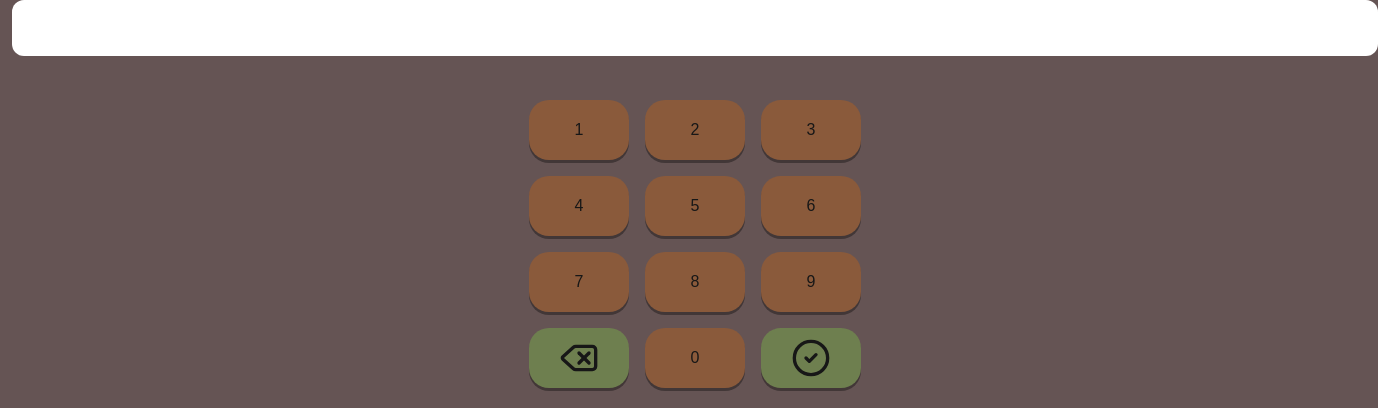
Test: Form › 입력된 번호가 4자리 초과면 에러 메세지를 표시한다.
The width and height of the screenshot is (1378, 408).
Click the button "1": (579, 130) [529,100,629,160]
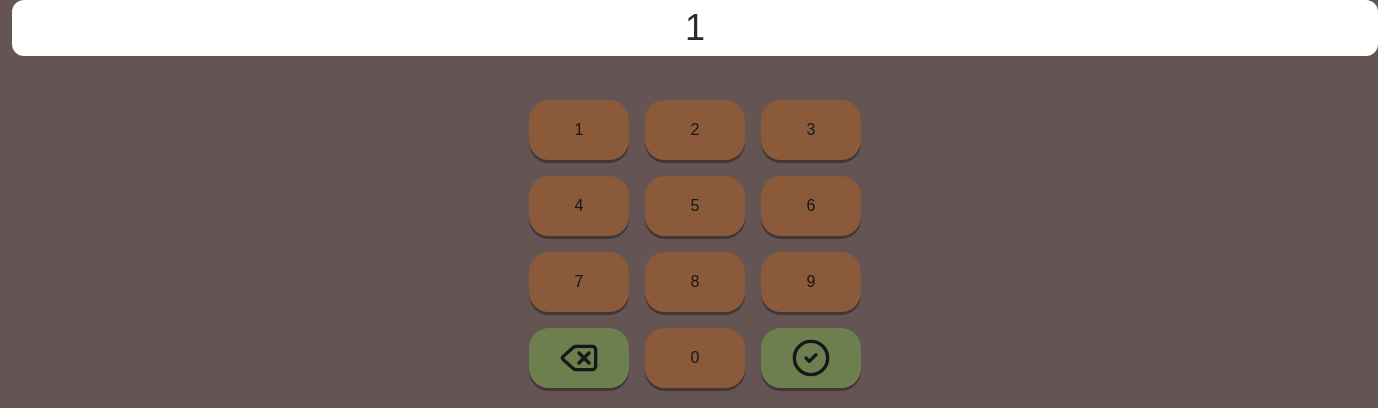
Click the button "2": (695, 130) [645,100,745,160]
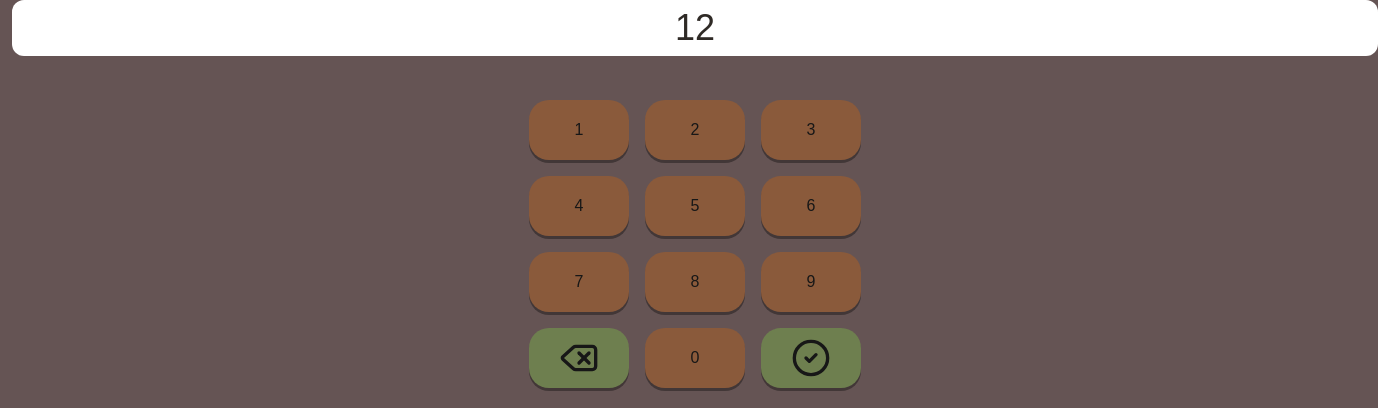
Click the button "3": (811, 130) [761,100,861,160]
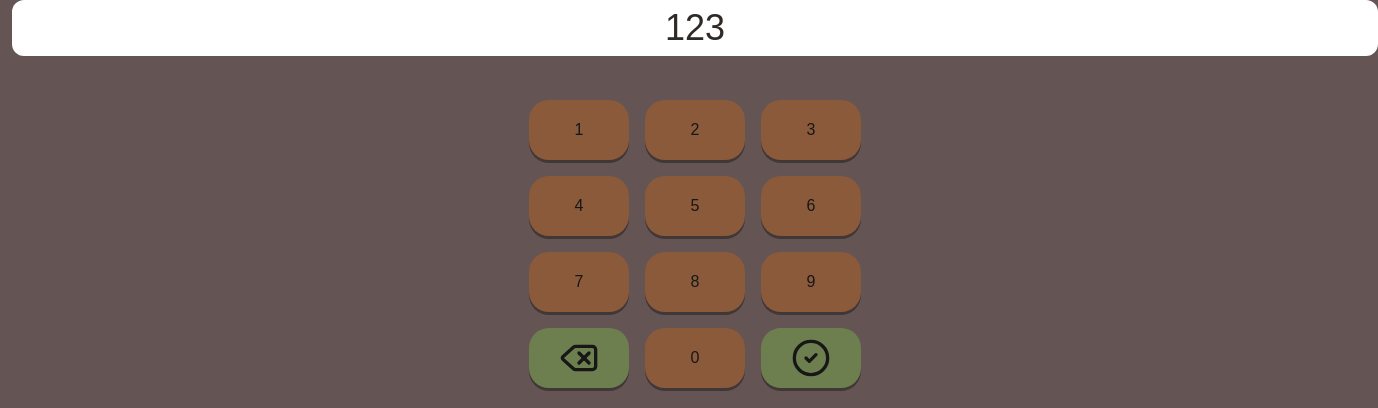
Click the button "4": (579, 206) [529,176,629,236]
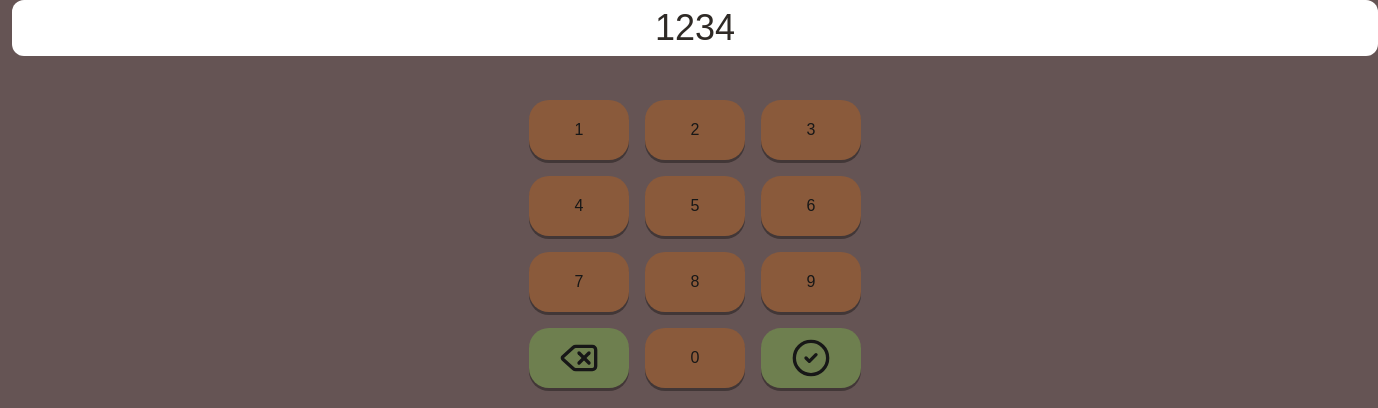
Click the button "1": (579, 130) [529,100,629,160]
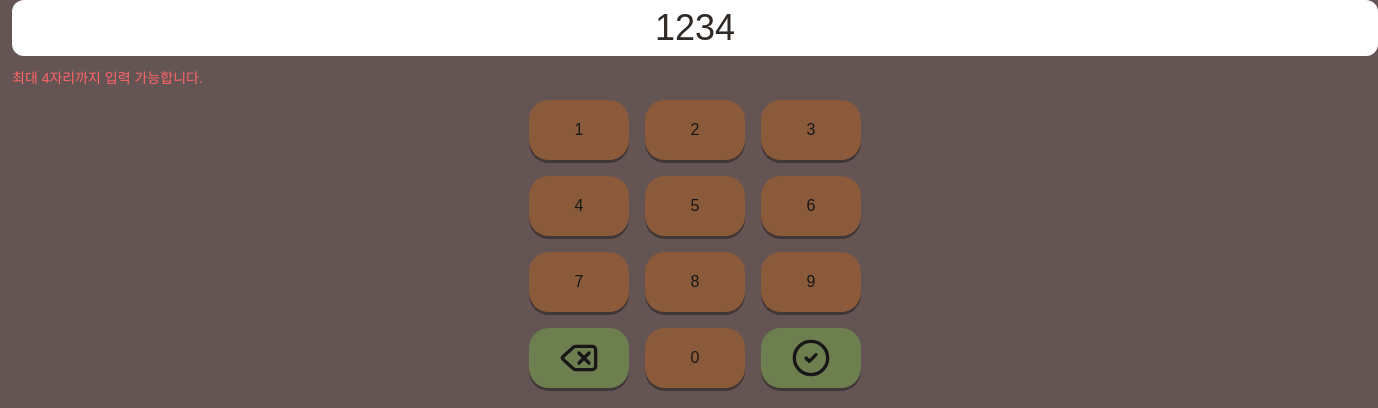
Expected: the text with test id "error-message" reads "최대 4자리까지 입력 가능합니다.", [12,70,203,86]
